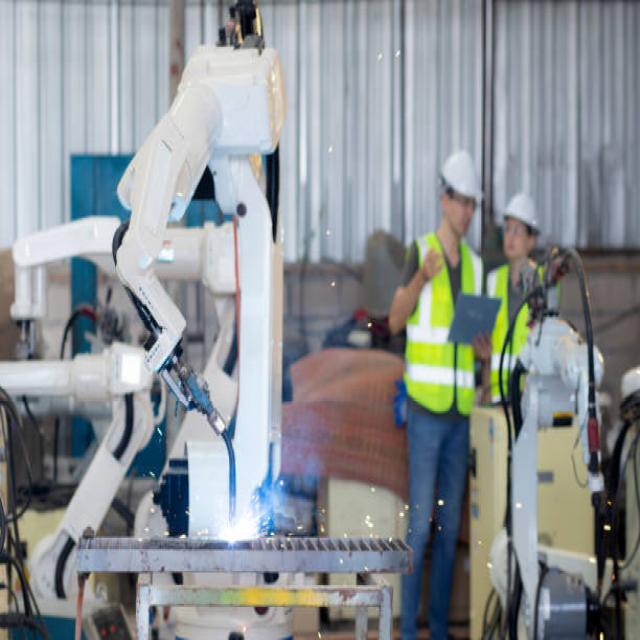Robotic-arm: (115, 36, 288, 525), (0, 346, 156, 640), (5, 204, 239, 349)
